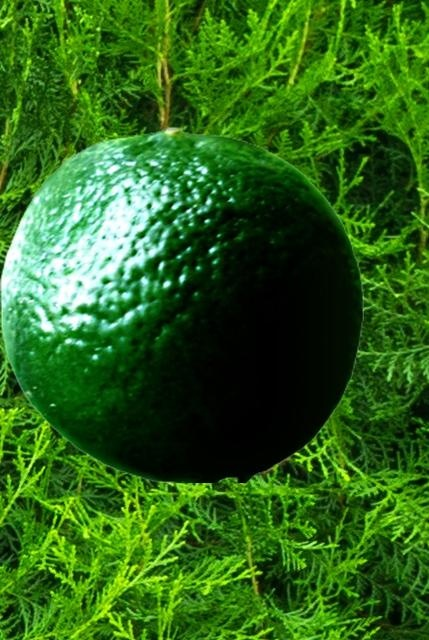calamansi: (0, 126, 362, 481)
